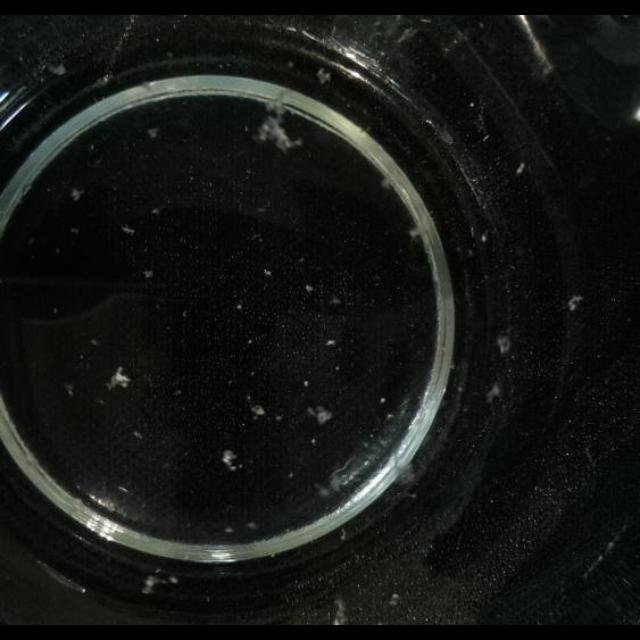Fibre: (254, 112, 298, 154), (142, 574, 170, 596), (106, 367, 130, 391), (308, 404, 332, 426), (329, 598, 348, 624), (220, 448, 240, 472), (486, 381, 502, 401), (316, 67, 332, 85), (497, 334, 511, 354), (70, 188, 84, 202), (408, 226, 422, 240), (146, 128, 160, 138), (120, 224, 134, 234)
microbeads: (566, 294, 584, 312), (250, 404, 266, 416), (388, 593, 400, 607), (516, 162, 526, 174)
